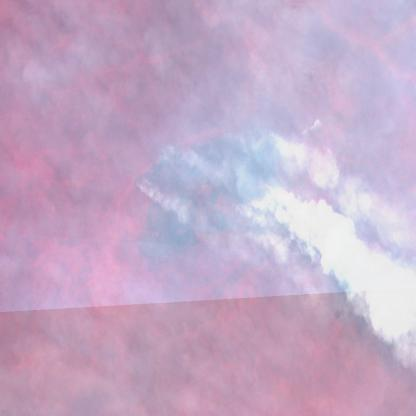fire: (126, 128, 294, 265)
